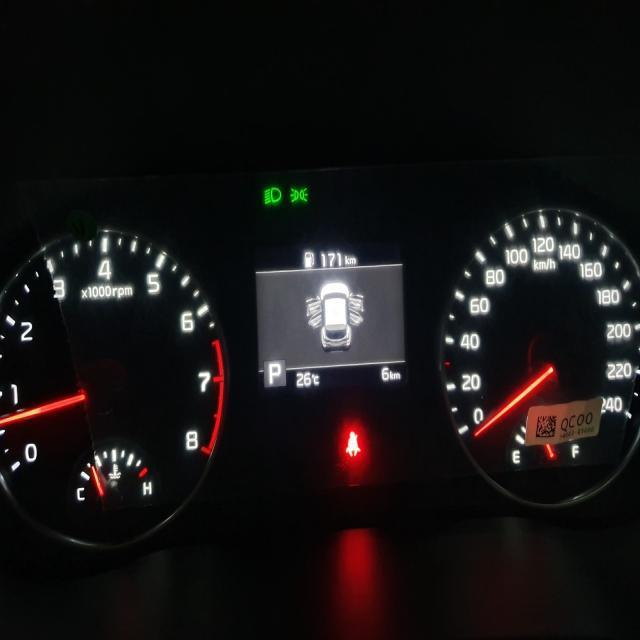Low beam: (262, 186, 282, 205)
SideLamp: (288, 186, 308, 203)
